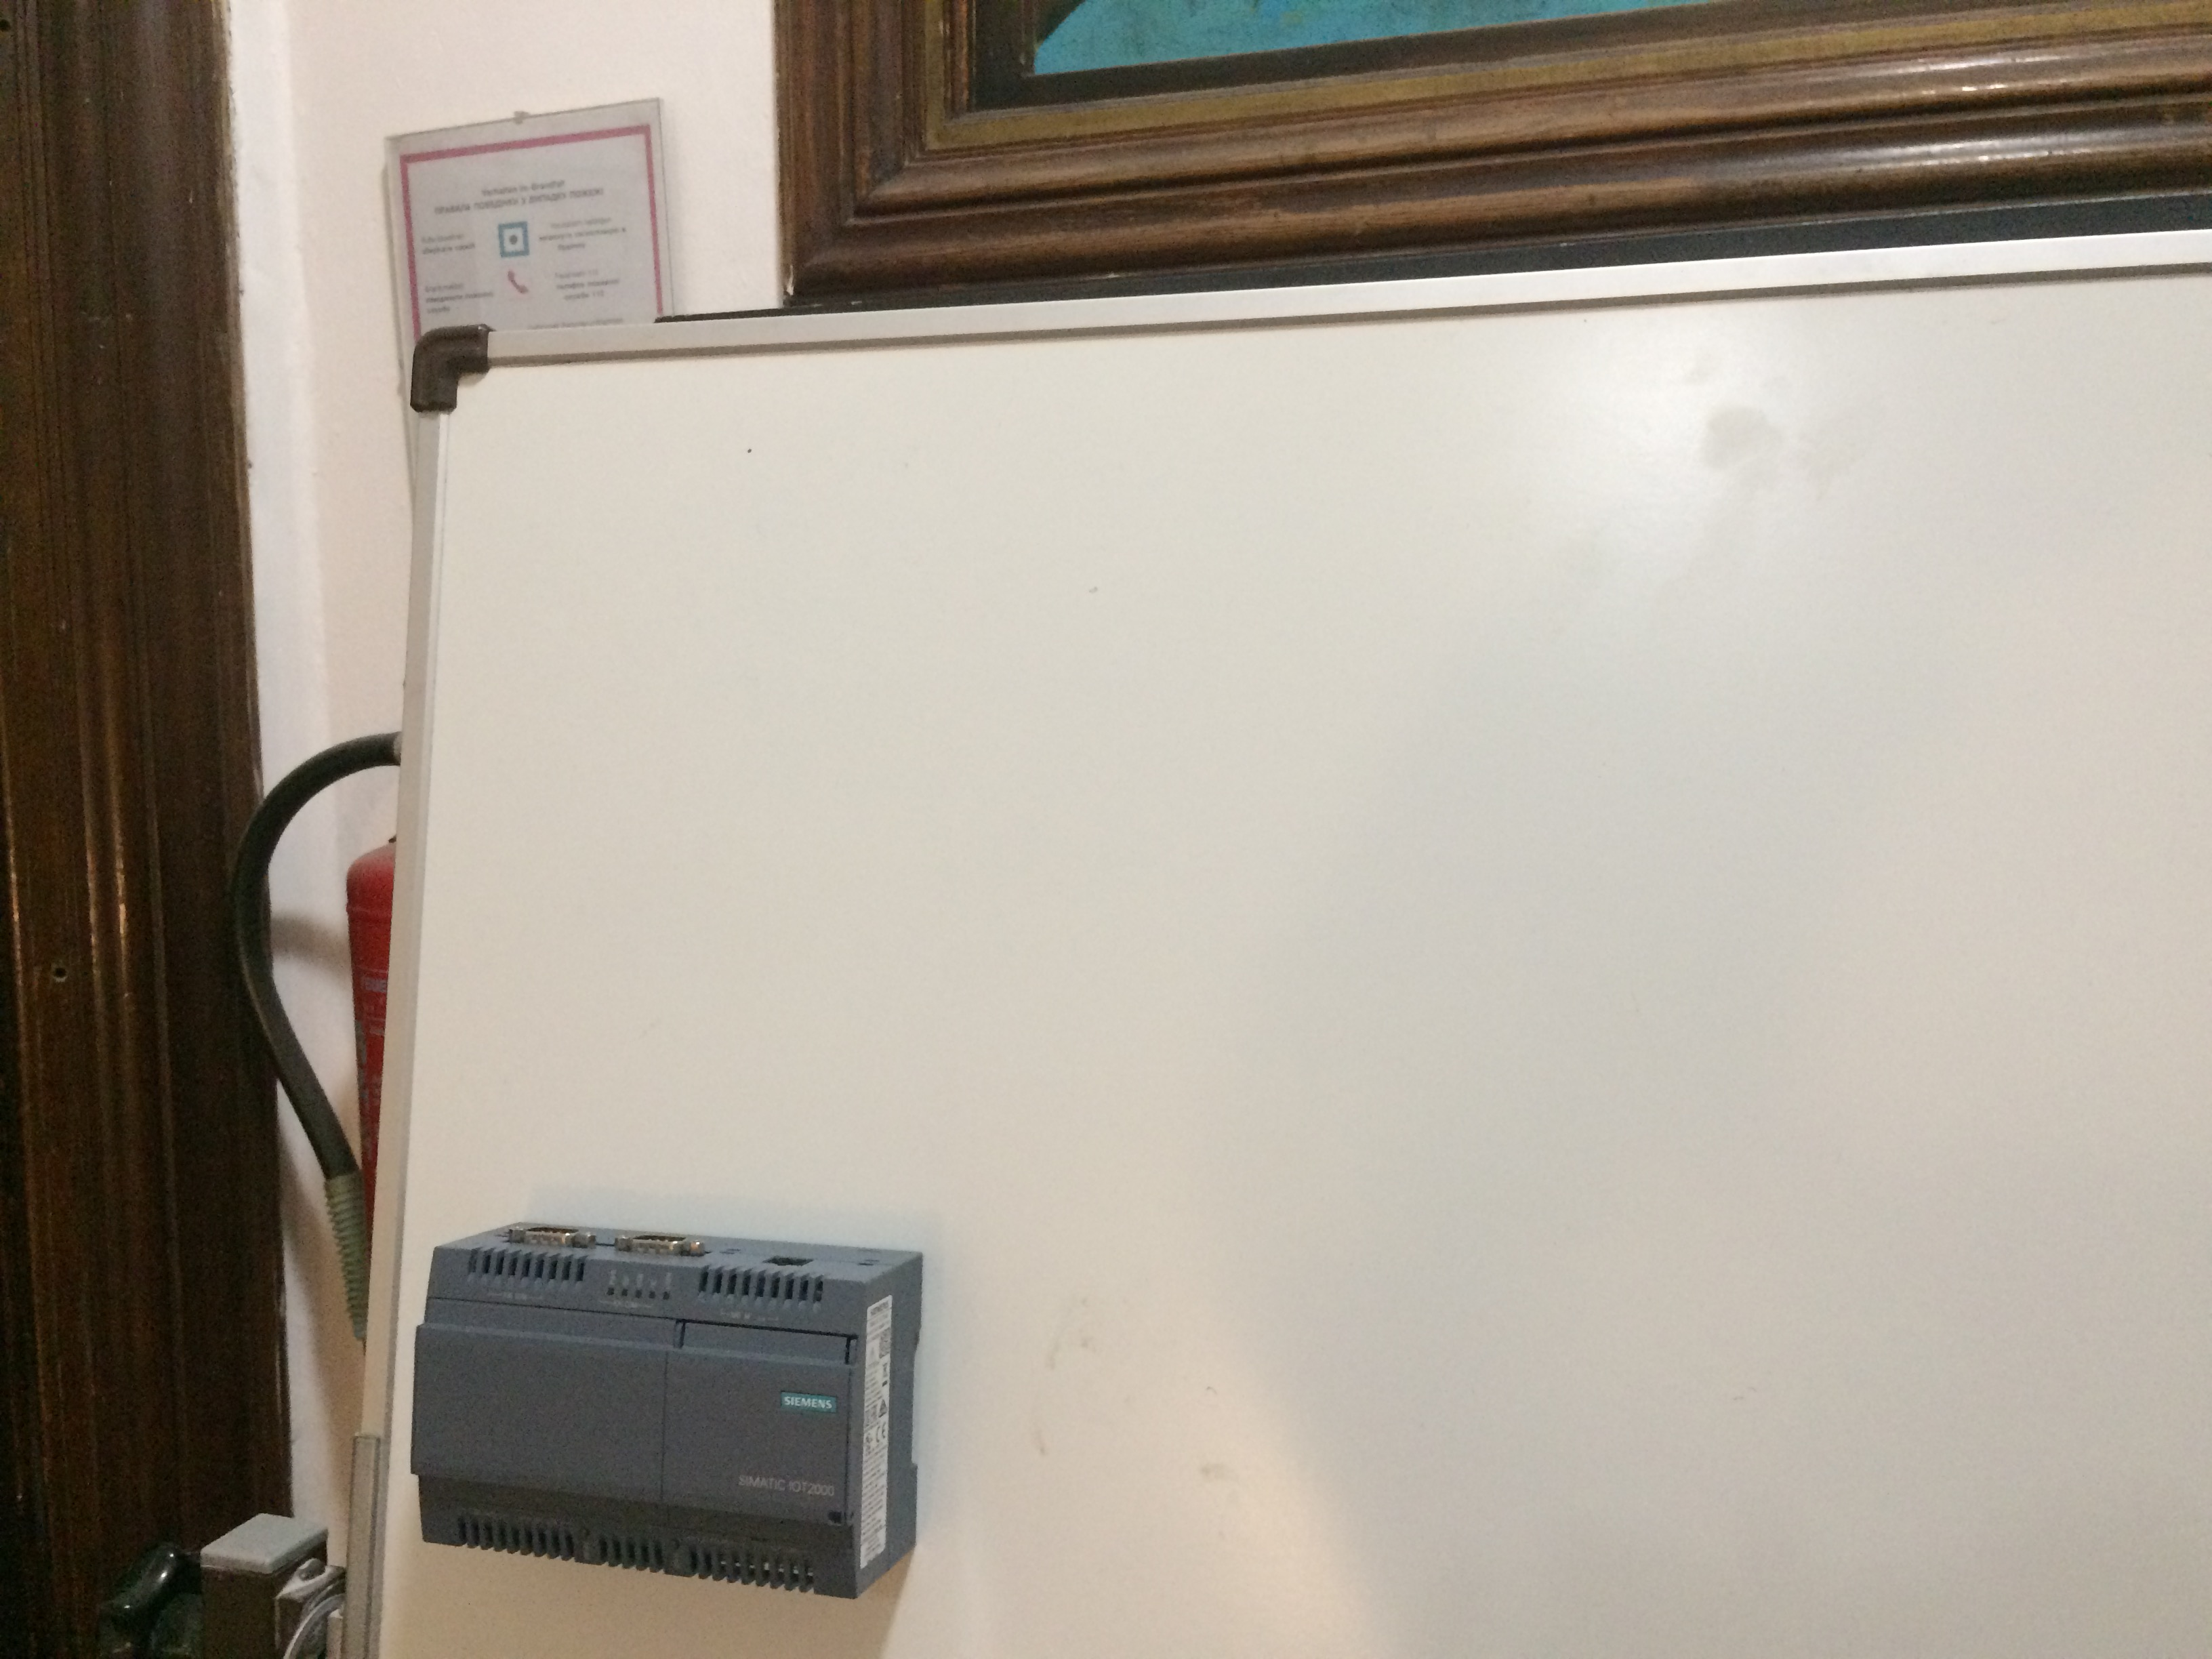iot2000: (408, 1216, 928, 1605)
